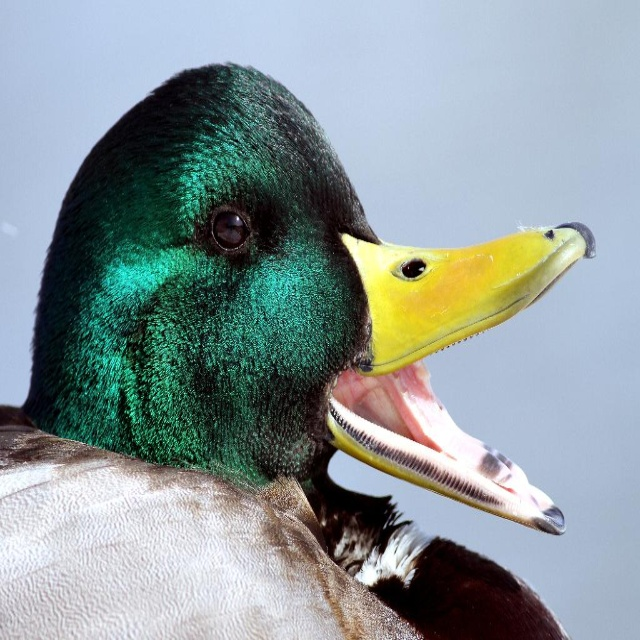Duck: (22, 99, 602, 559)
